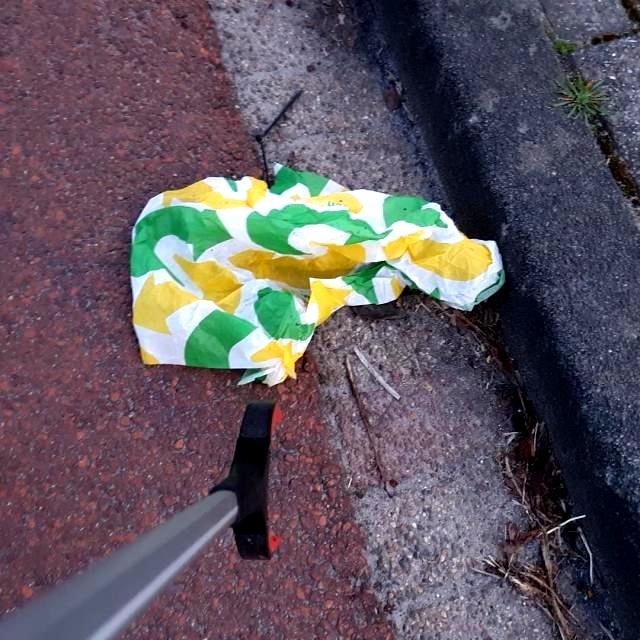Paper: (128, 159, 508, 387)
